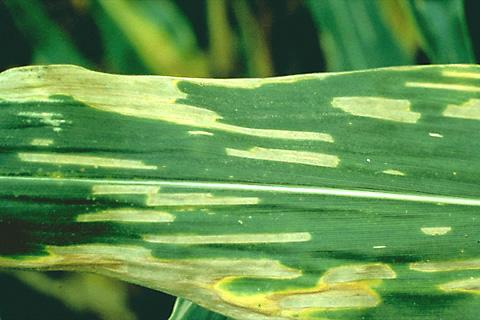Corn Gray leaf spot: (4, 52, 480, 316)
